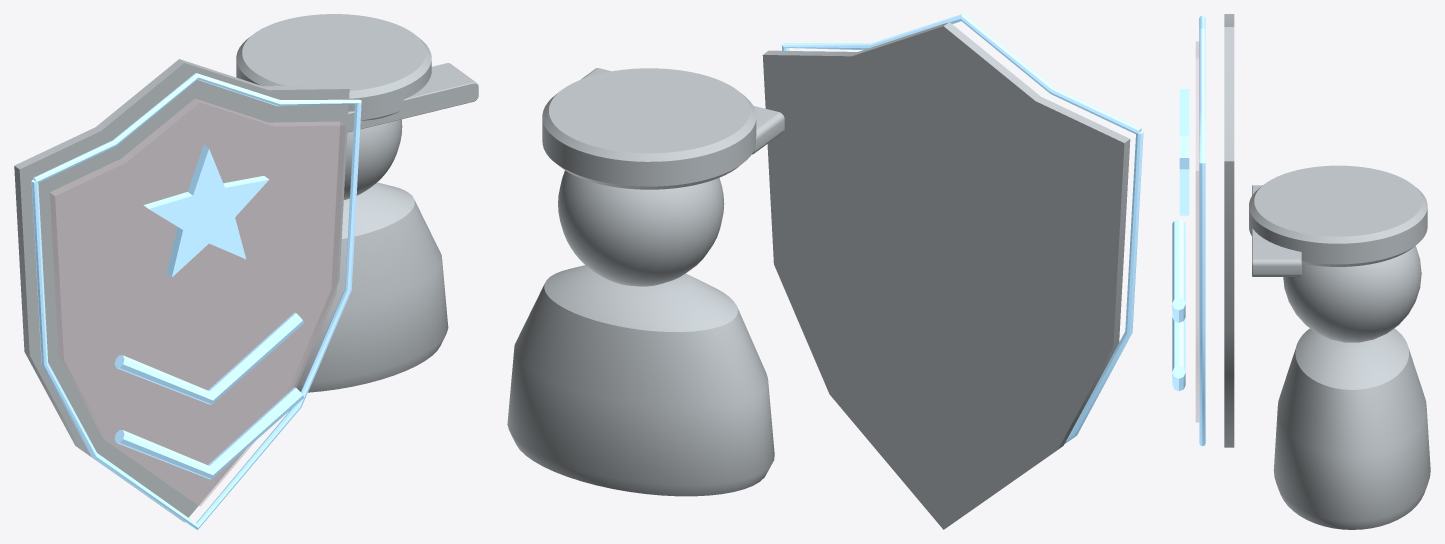
File: 48-veteran-services.glb
The picture shows the model from 3 angles, left to right: view 1: azimuth 30°, elevation 25°; view 2: azimuth 150°, elevation 25°; view 3: azimuth 270°, elevation 25°; orthographic projection. The views are drawn at different scales.
Parts seen in each view (by area): view 1: BC thin clear technical glass, BC subtle ruby technical glass, BC cool glass edge; view 2: BC thin clear technical glass, BC cool glass edge; view 3: BC thin clear technical glass, BC cool glass edge, BC subtle ruby technical glass.
Boxes of the visible parts, x1,y1,x2,y2 form: BC thin clear technical glass: (14, 14, 478, 522); BC subtle ruby technical glass: (50, 98, 345, 506); BC cool glass edge: (31, 73, 361, 529); BC thin clear technical glass: (507, 22, 1130, 529); BC cool glass edge: (781, 14, 1143, 443); BC thin clear technical glass: (1224, 14, 1430, 529); BC cool glass edge: (1172, 15, 1205, 446); BC subtle ruby technical glass: (1195, 41, 1199, 422).
Size of the model in its own units: 1.86 by 1.66 by 0.9248.
